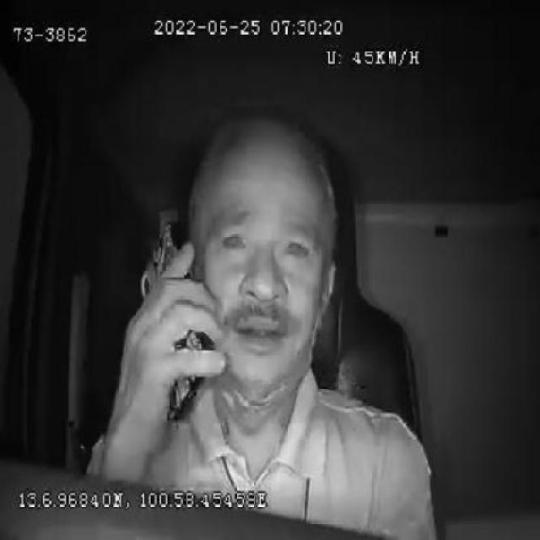phone: (139, 214, 210, 418)
